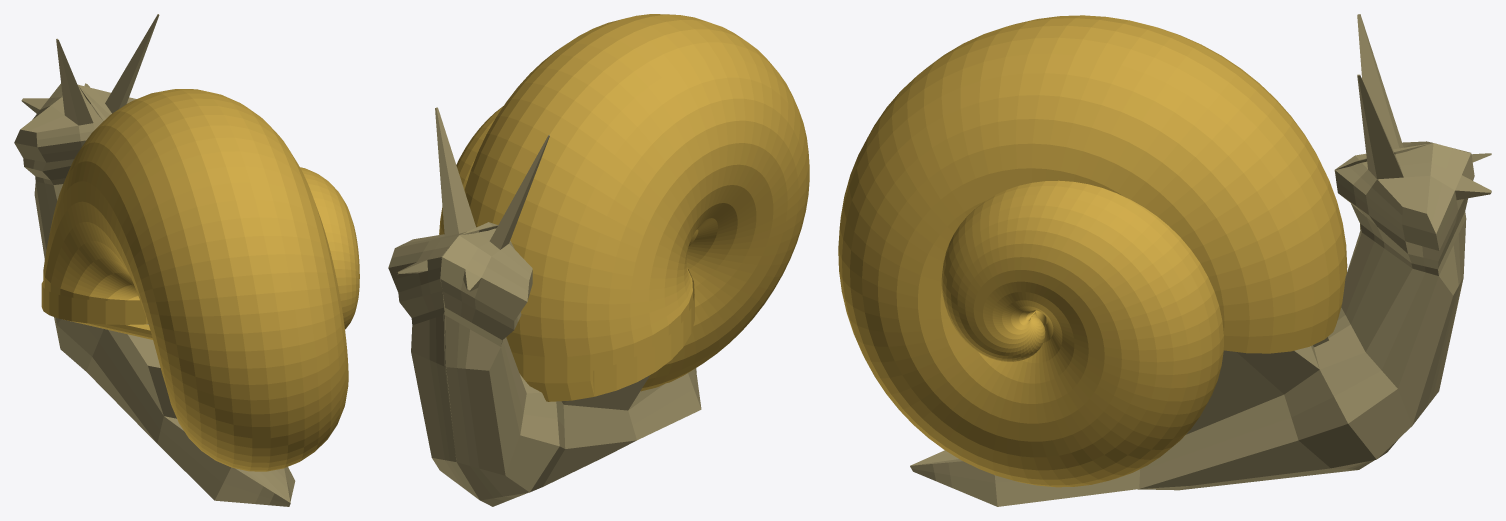
File: Caracol.Orangeblend.fbx
3 views of the same model, side by side, from view 1: azimuth 30°, elevation 25°; view 2: azimuth 150°, elevation 25°; view 3: azimuth 270°, elevation 25° (orthographic). The views are drawn at different scales.
Parts seen in each view (by area): view 1: XYZ Function, Cube; view 2: XYZ Function, Cube; view 3: XYZ Function, Cube.
Part boxes in pixels (x1,y1,x2,y2): XYZ Function: (41, 89, 359, 471); Cube: (14, 14, 295, 506); XYZ Function: (439, 14, 809, 401); Cube: (388, 107, 701, 506); XYZ Function: (838, 15, 1347, 487); Cube: (910, 14, 1491, 506).
Size of the model in its own units: 264 by 382 by 501.
